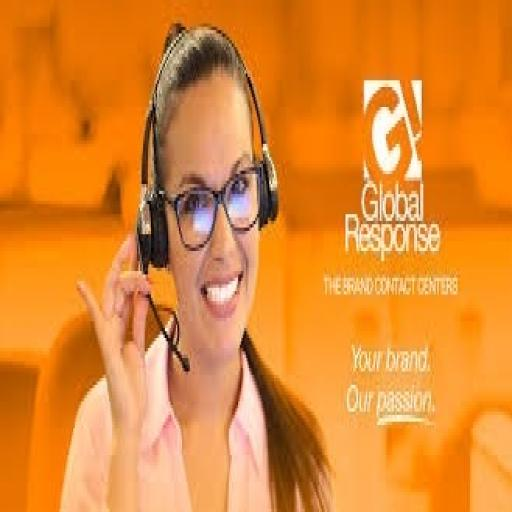calling: (56, 20, 336, 509)
